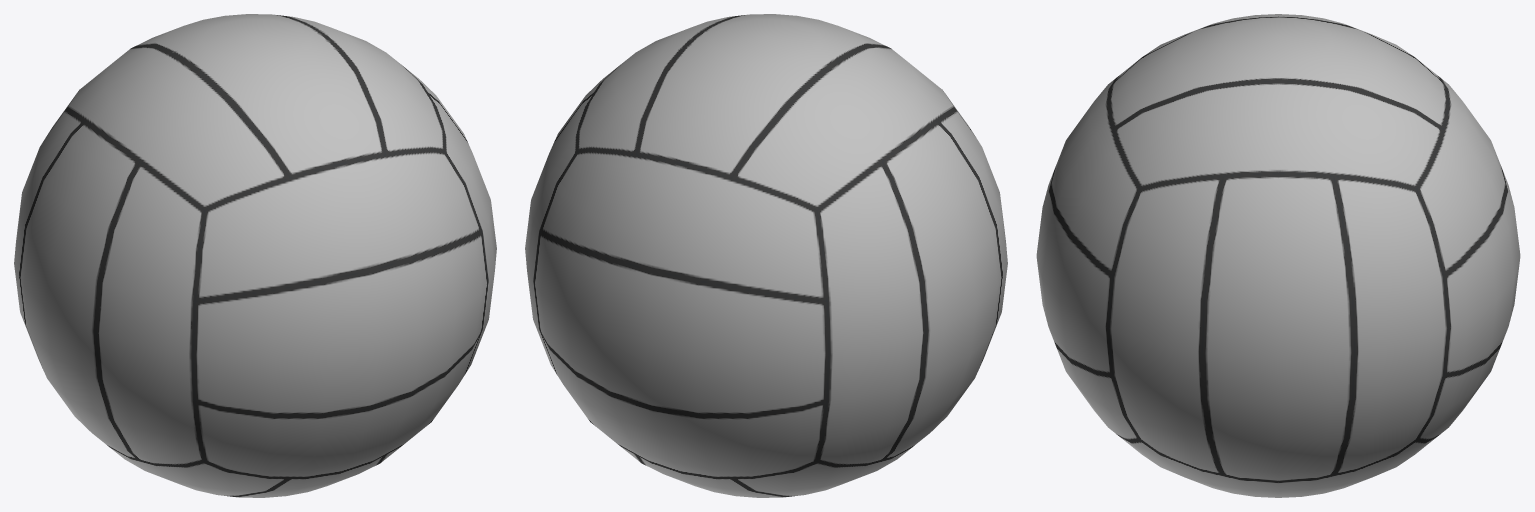
Rendered from PoolBallSport01_2.FBX.
The picture shows the model from 3 angles, left to right: view 1: azimuth 30°, elevation 25°; view 2: azimuth 150°, elevation 25°; view 3: azimuth 270°, elevation 25°; orthographic projection.
Visible parts, largest first — view 1: PoolSportBall01_2; view 2: PoolSportBall01_2; view 3: PoolSportBall01_2.
Part boxes in pixels (x1,y1,x2,y2): PoolSportBall01_2: (14,14,496,497); PoolSportBall01_2: (525,14,1007,497); PoolSportBall01_2: (1036,14,1520,497).
Size of what is drawn, in the model's own units: 0.18 by 0.18 by 0.18.
